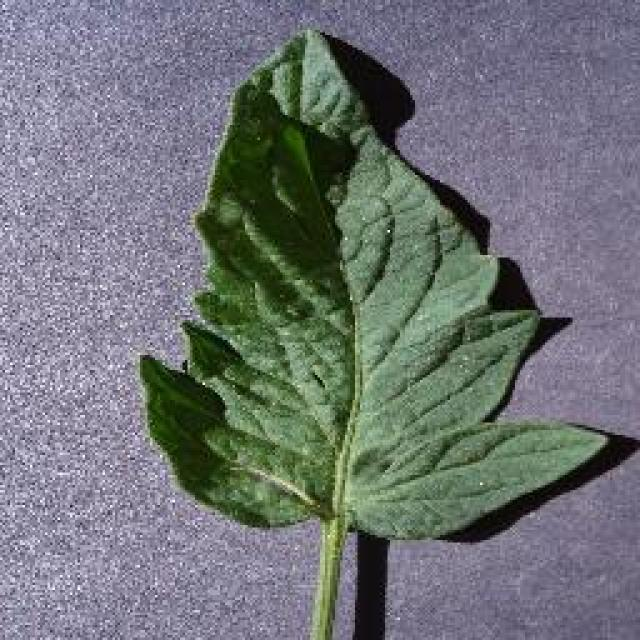Tomato___healthy: (136, 23, 612, 638)
